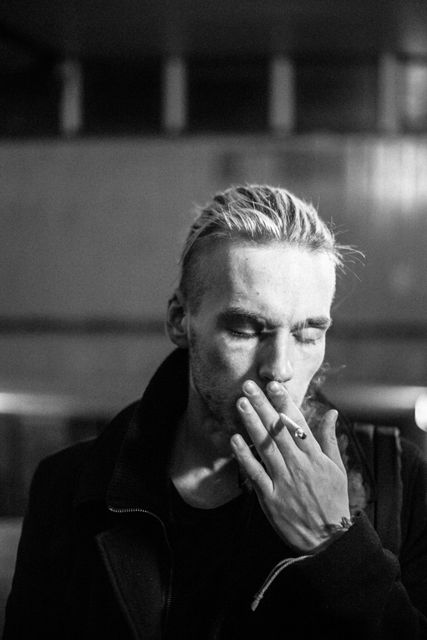cigarette: (276, 408, 310, 444)
